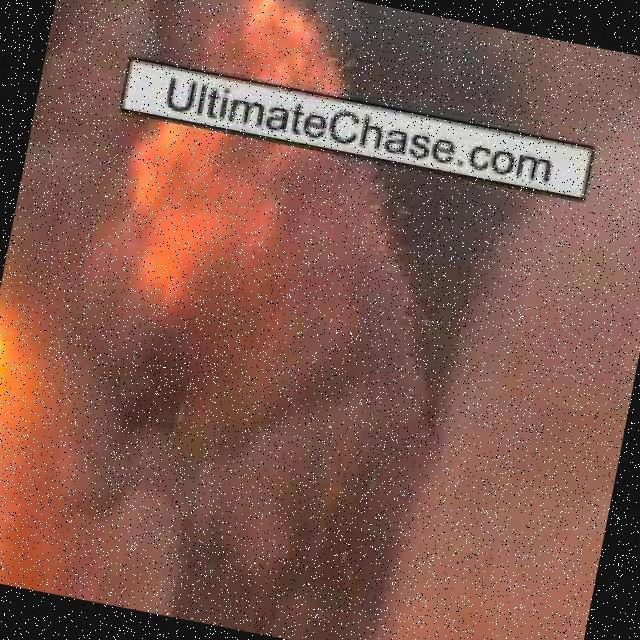Fire: (97, 0, 386, 340), (0, 281, 106, 541)
